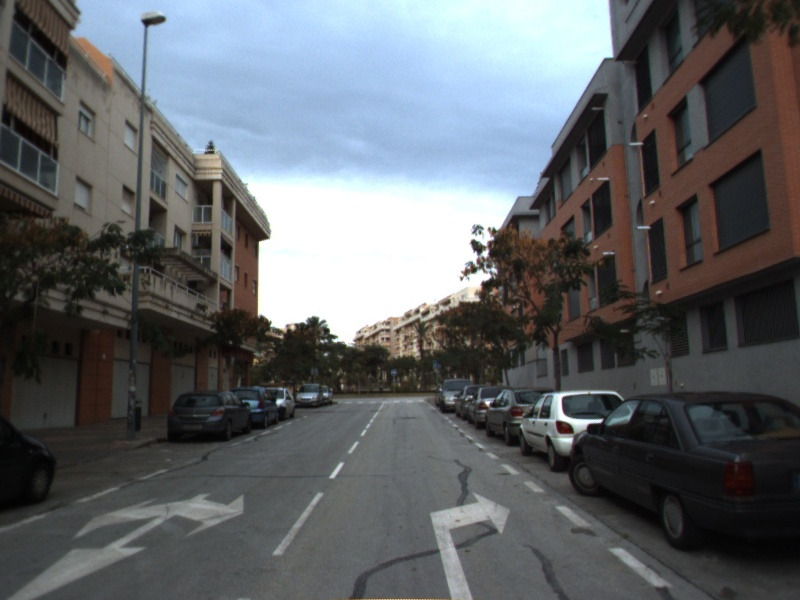RIGHT: (427, 490, 513, 600)
